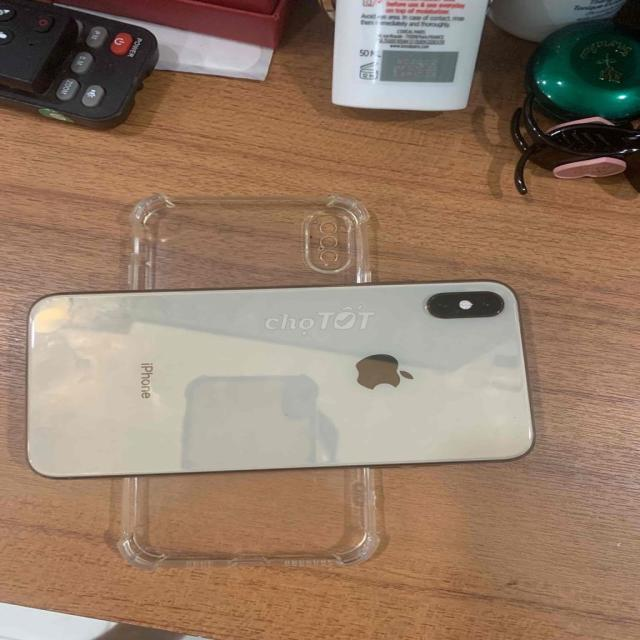gen_x_xs: (27, 281, 532, 477)
